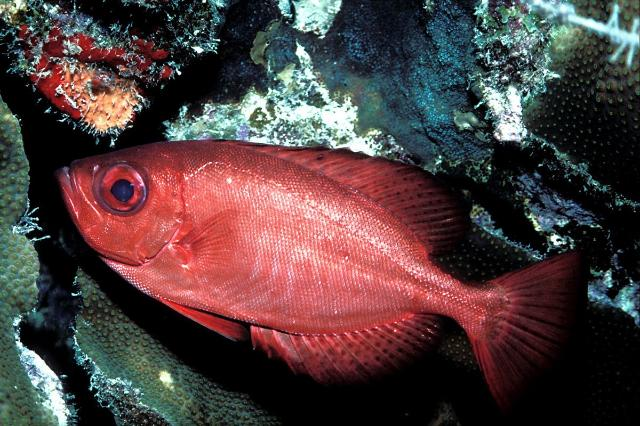Mulut: (42, 142, 88, 223)
Sirip Anal: (253, 298, 445, 396)
Sirip Dada: (177, 202, 250, 288)
Sirip Ekor: (470, 248, 608, 412)
Sirip Perut: (157, 288, 245, 354)
Sirip Punggung: (258, 127, 474, 259)
